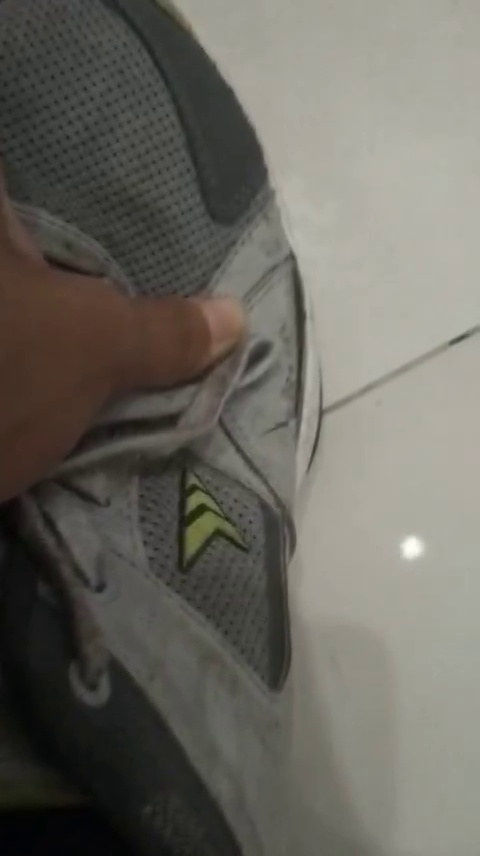bonding: (283, 244, 315, 445)
